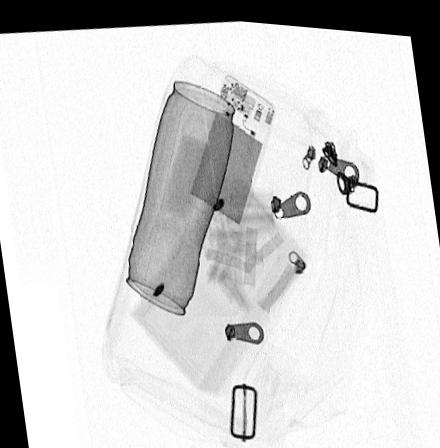Powerbank: (183, 69, 275, 230)
